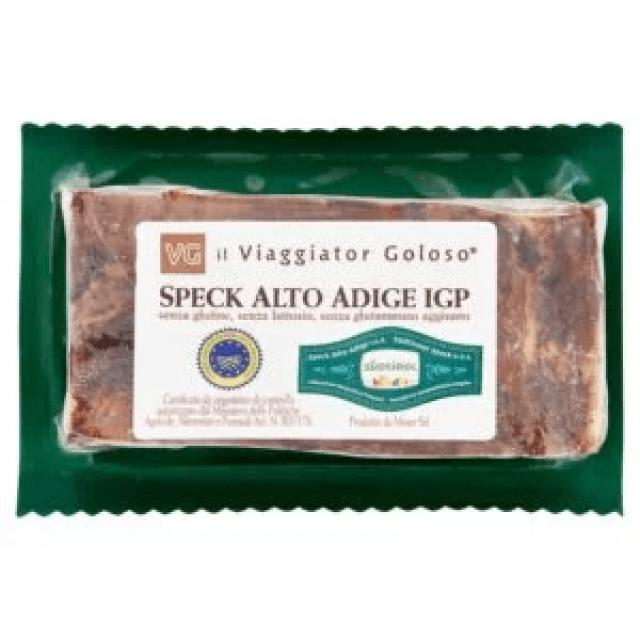ham: (21, 126, 623, 514)
